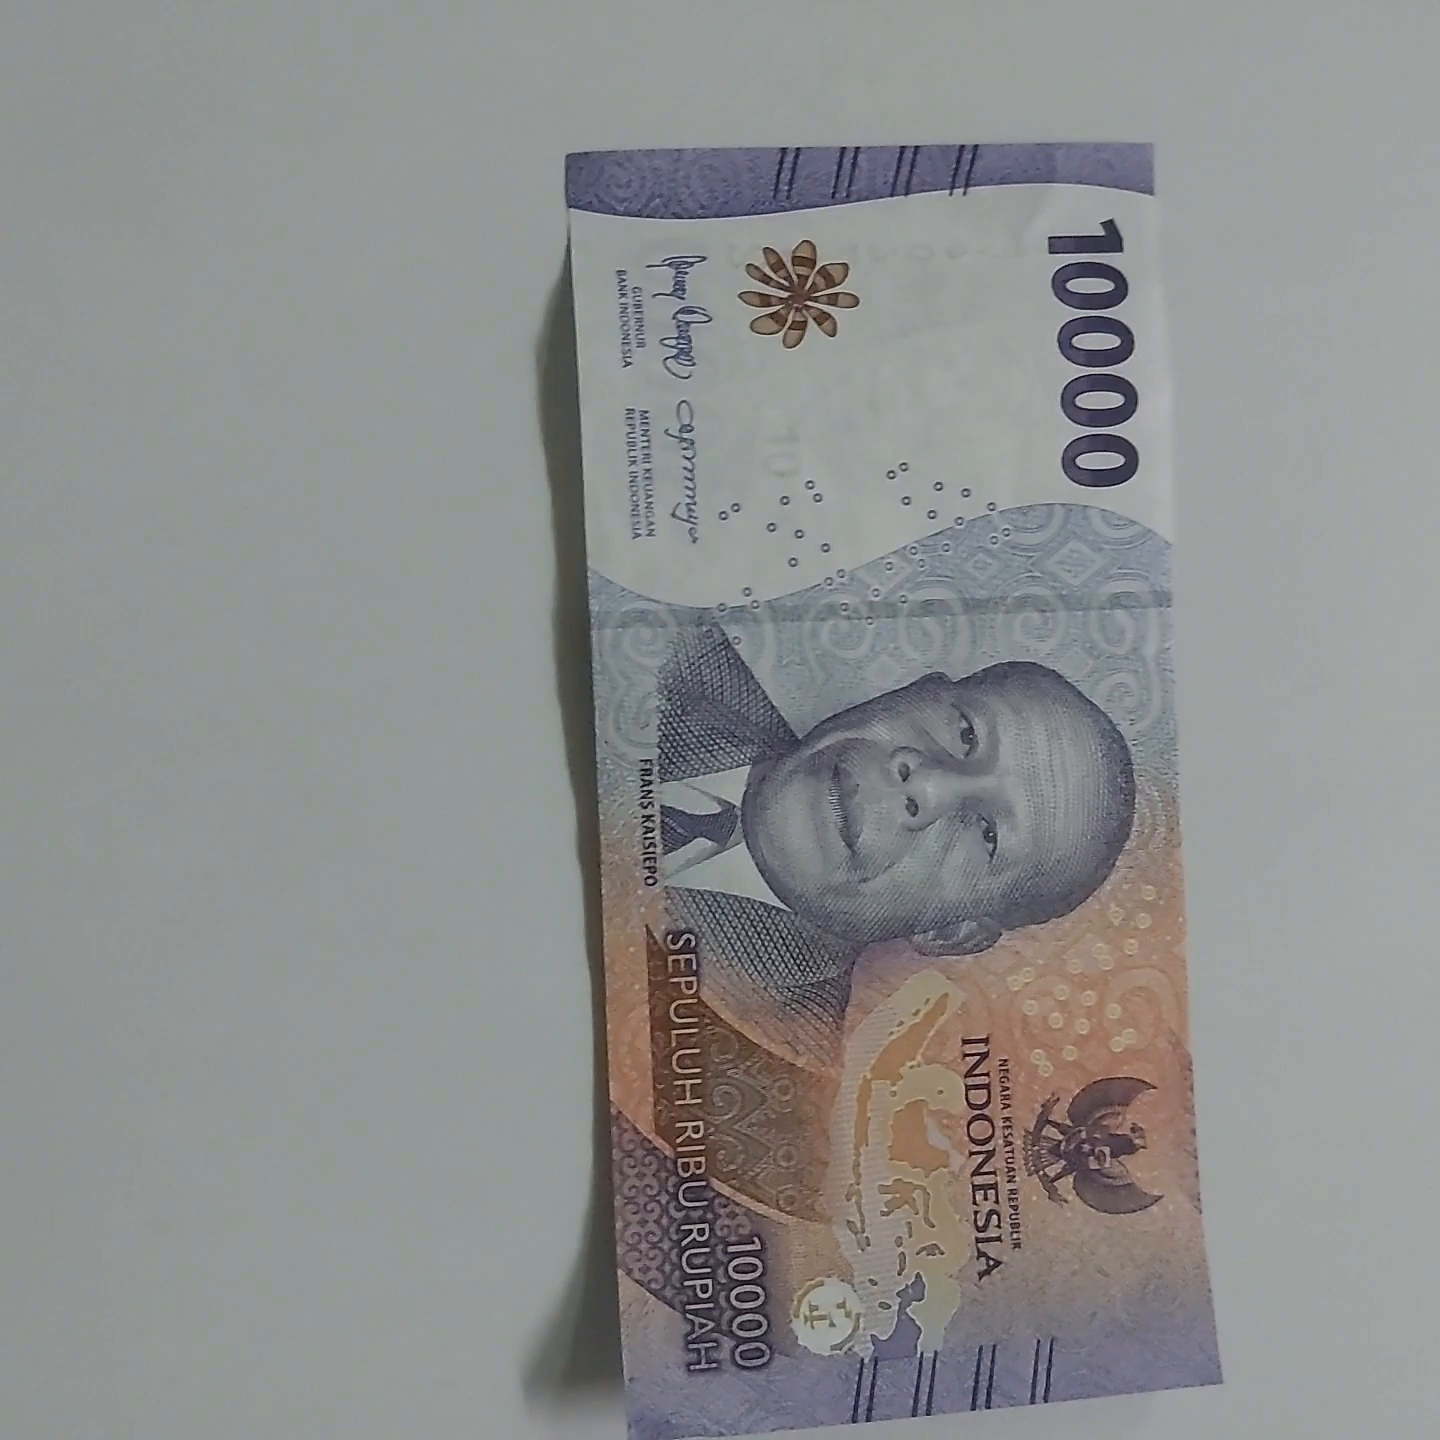10k: (558, 135, 1249, 1440)
